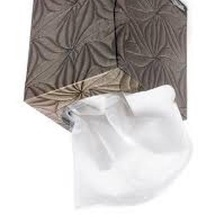tissue: (61, 79, 197, 217)
